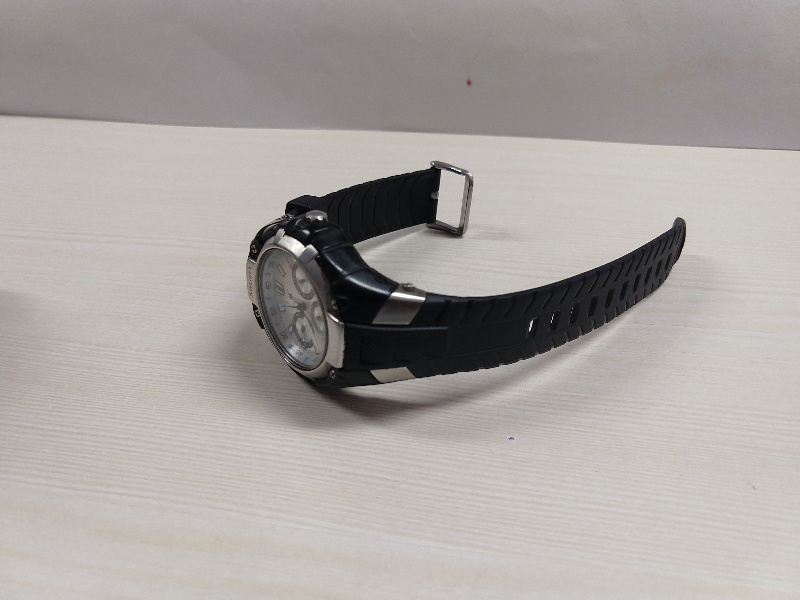watch: (239, 143, 692, 401)
